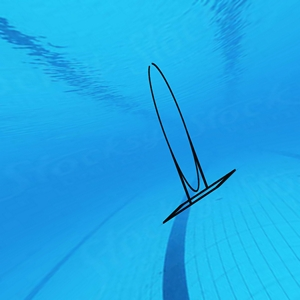circle: (146, 61, 239, 227)
